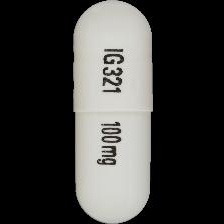63187-392: (0, 0, 224, 224)
